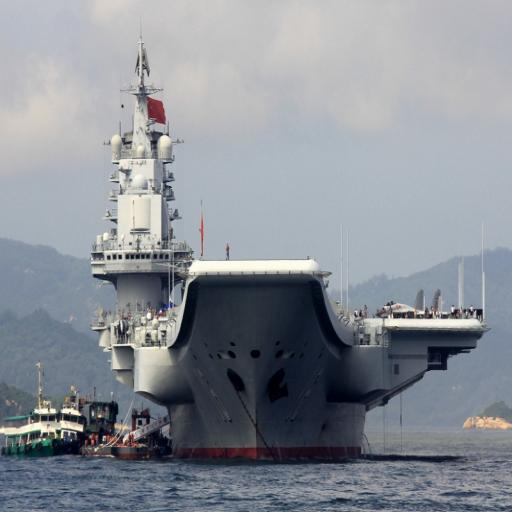Portanaves: (93, 6, 491, 465)
